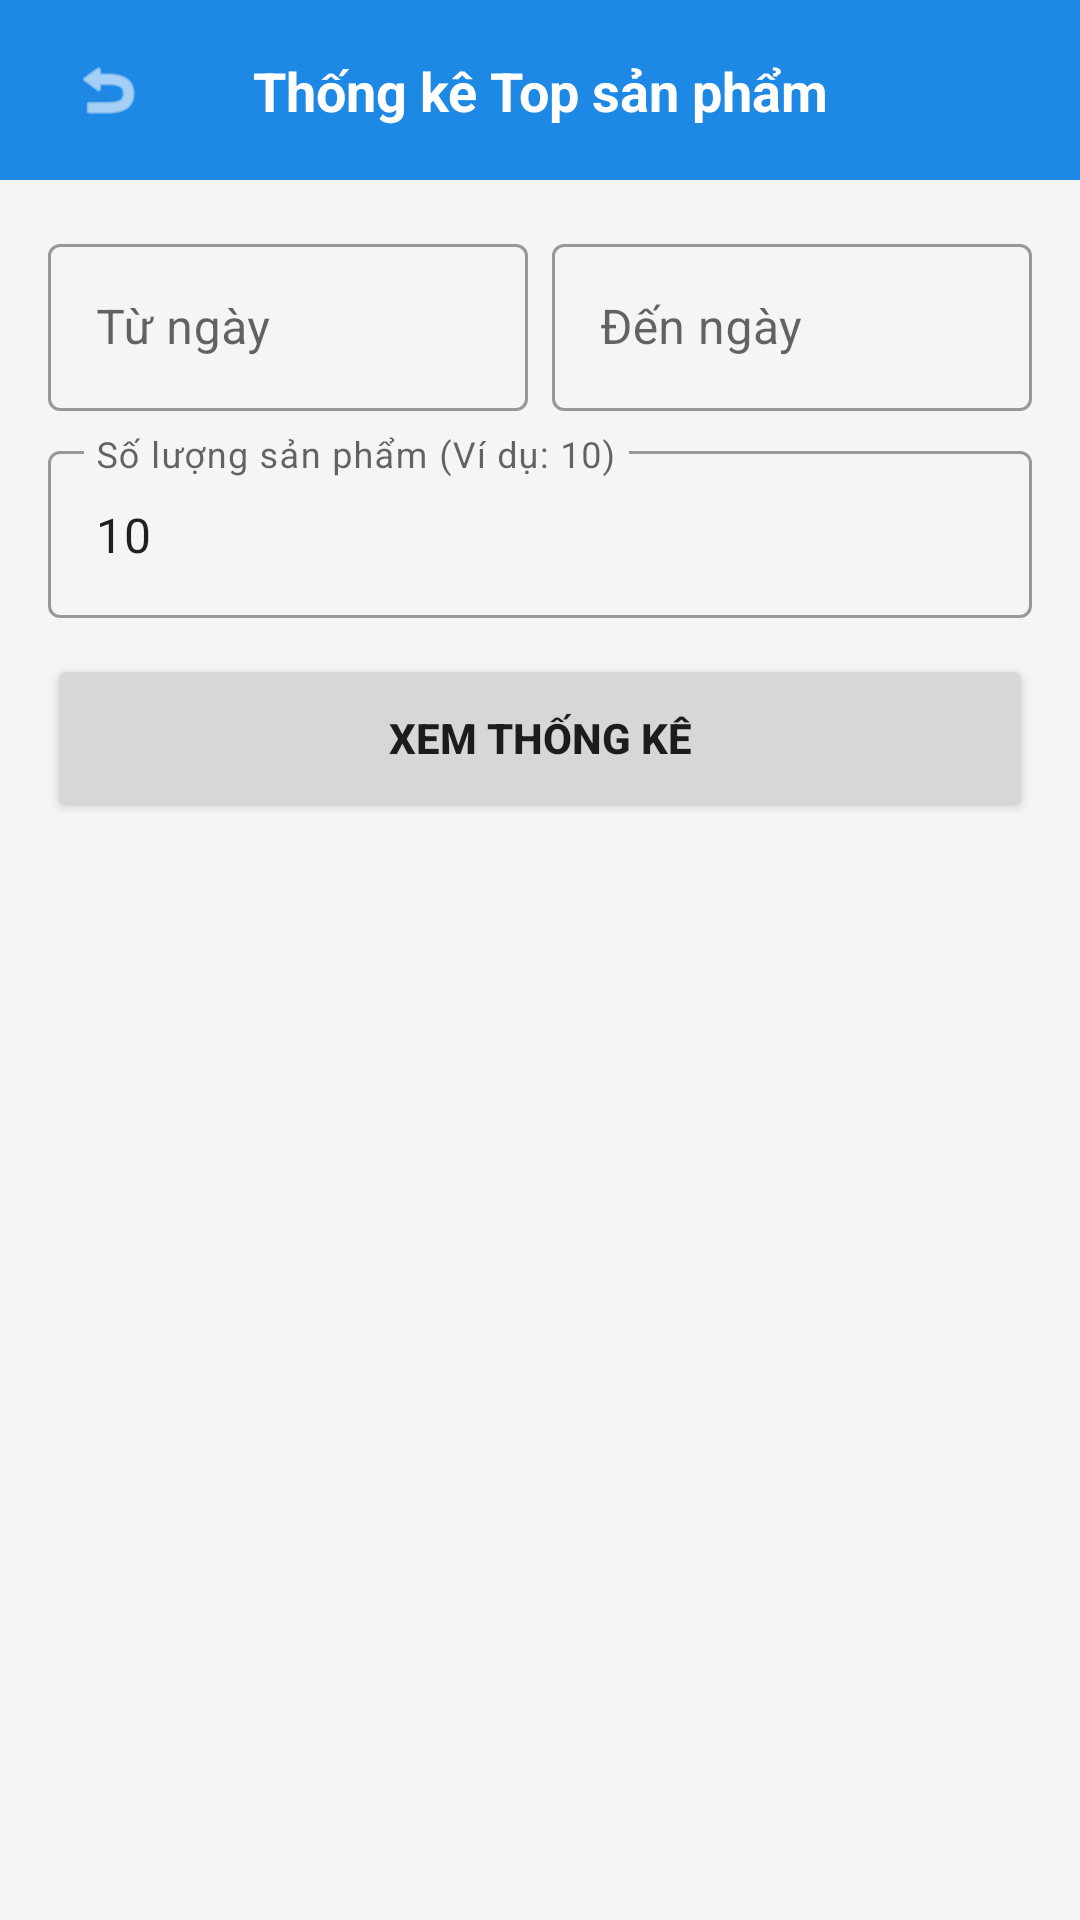

Named icons in this screenshot (1080px×1920px) and their centers, [x,y]:
revert: [109,90]
